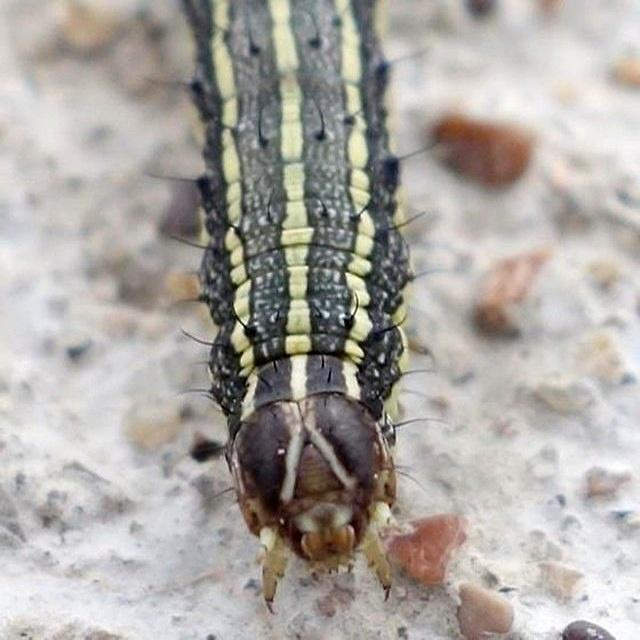worm: (146, 1, 445, 615)
